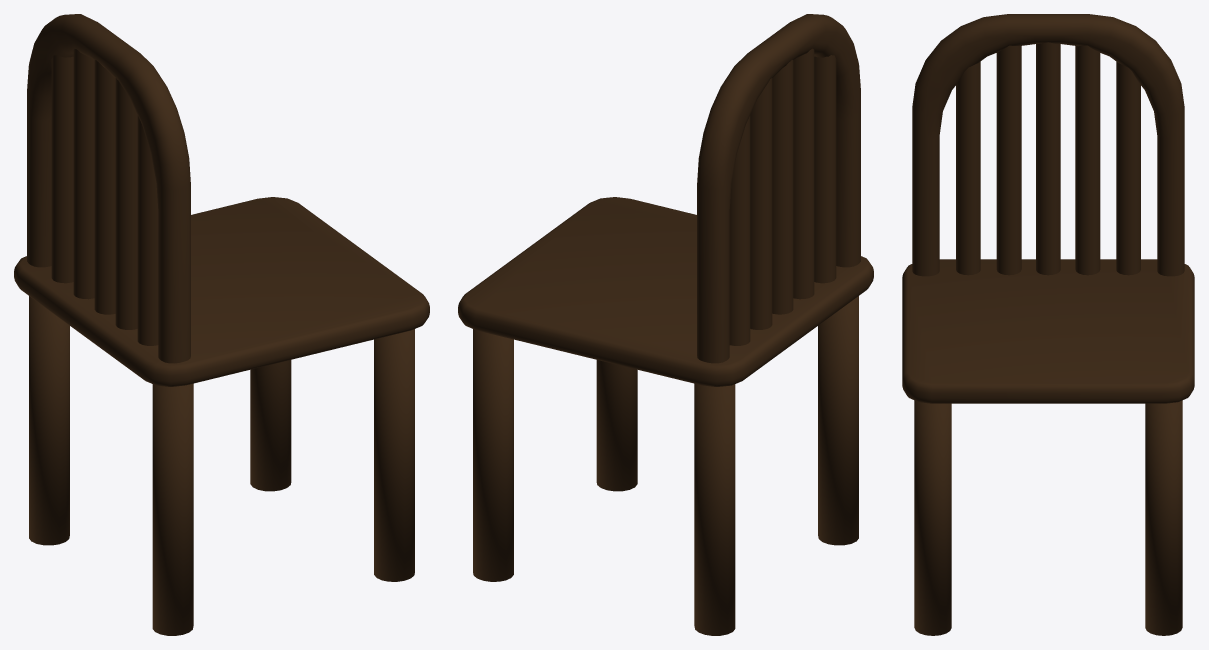
Rendered from Chair.glb.
3 views of the same model, side by side, from view 1: azimuth 30°, elevation 25°; view 2: azimuth 150°, elevation 25°; view 3: azimuth 270°, elevation 25° (orthographic). The views are drawn at different scales.
Visible parts, largest first — view 1: chair; view 2: chair; view 3: chair.
Boxes of the visible parts, <box> form: chair: <box>14,14,429,635</box>; chair: <box>458,14,873,635</box>; chair: <box>902,14,1194,635</box>.
Bounding box in the file's own units: 6.93 × 12.79 × 6.65.
